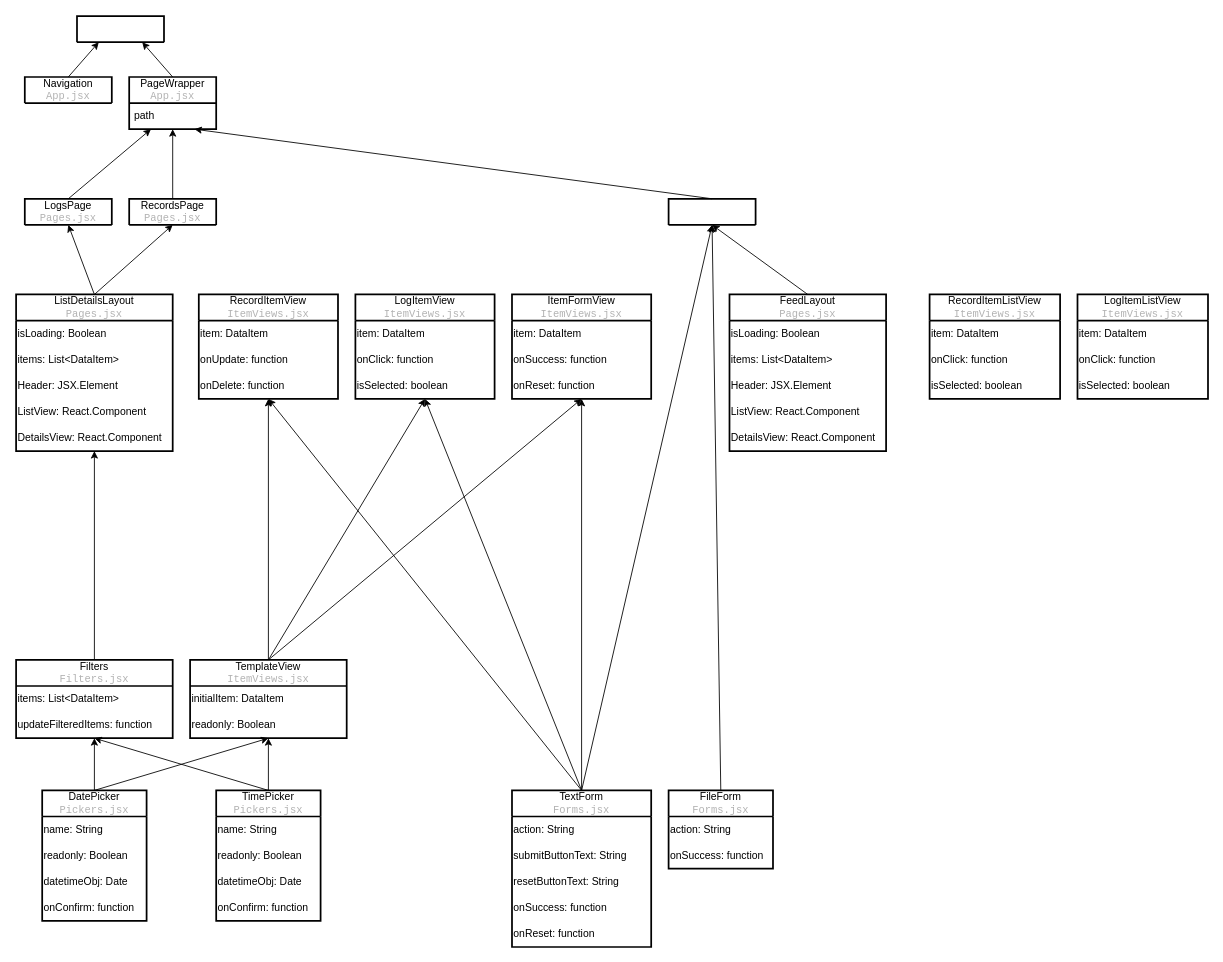
Some shapes in this 1223 by 962 pixel diagram are drawn without their labels. Each missing label, with the centre of its shape:
"App App.jsx" belongs at point 120,29.
"SettingsPage Pages.jsx" belongs at point 711,211.
